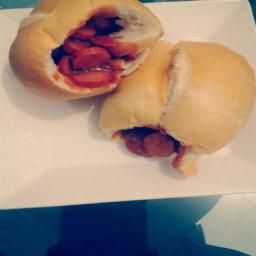hotdog: (142, 132, 178, 158), (72, 50, 120, 67), (77, 70, 117, 88), (100, 36, 138, 51), (57, 38, 91, 51), (123, 134, 143, 154), (78, 23, 101, 37), (55, 58, 69, 73)
